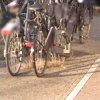bicycles: (31, 4, 74, 79)
